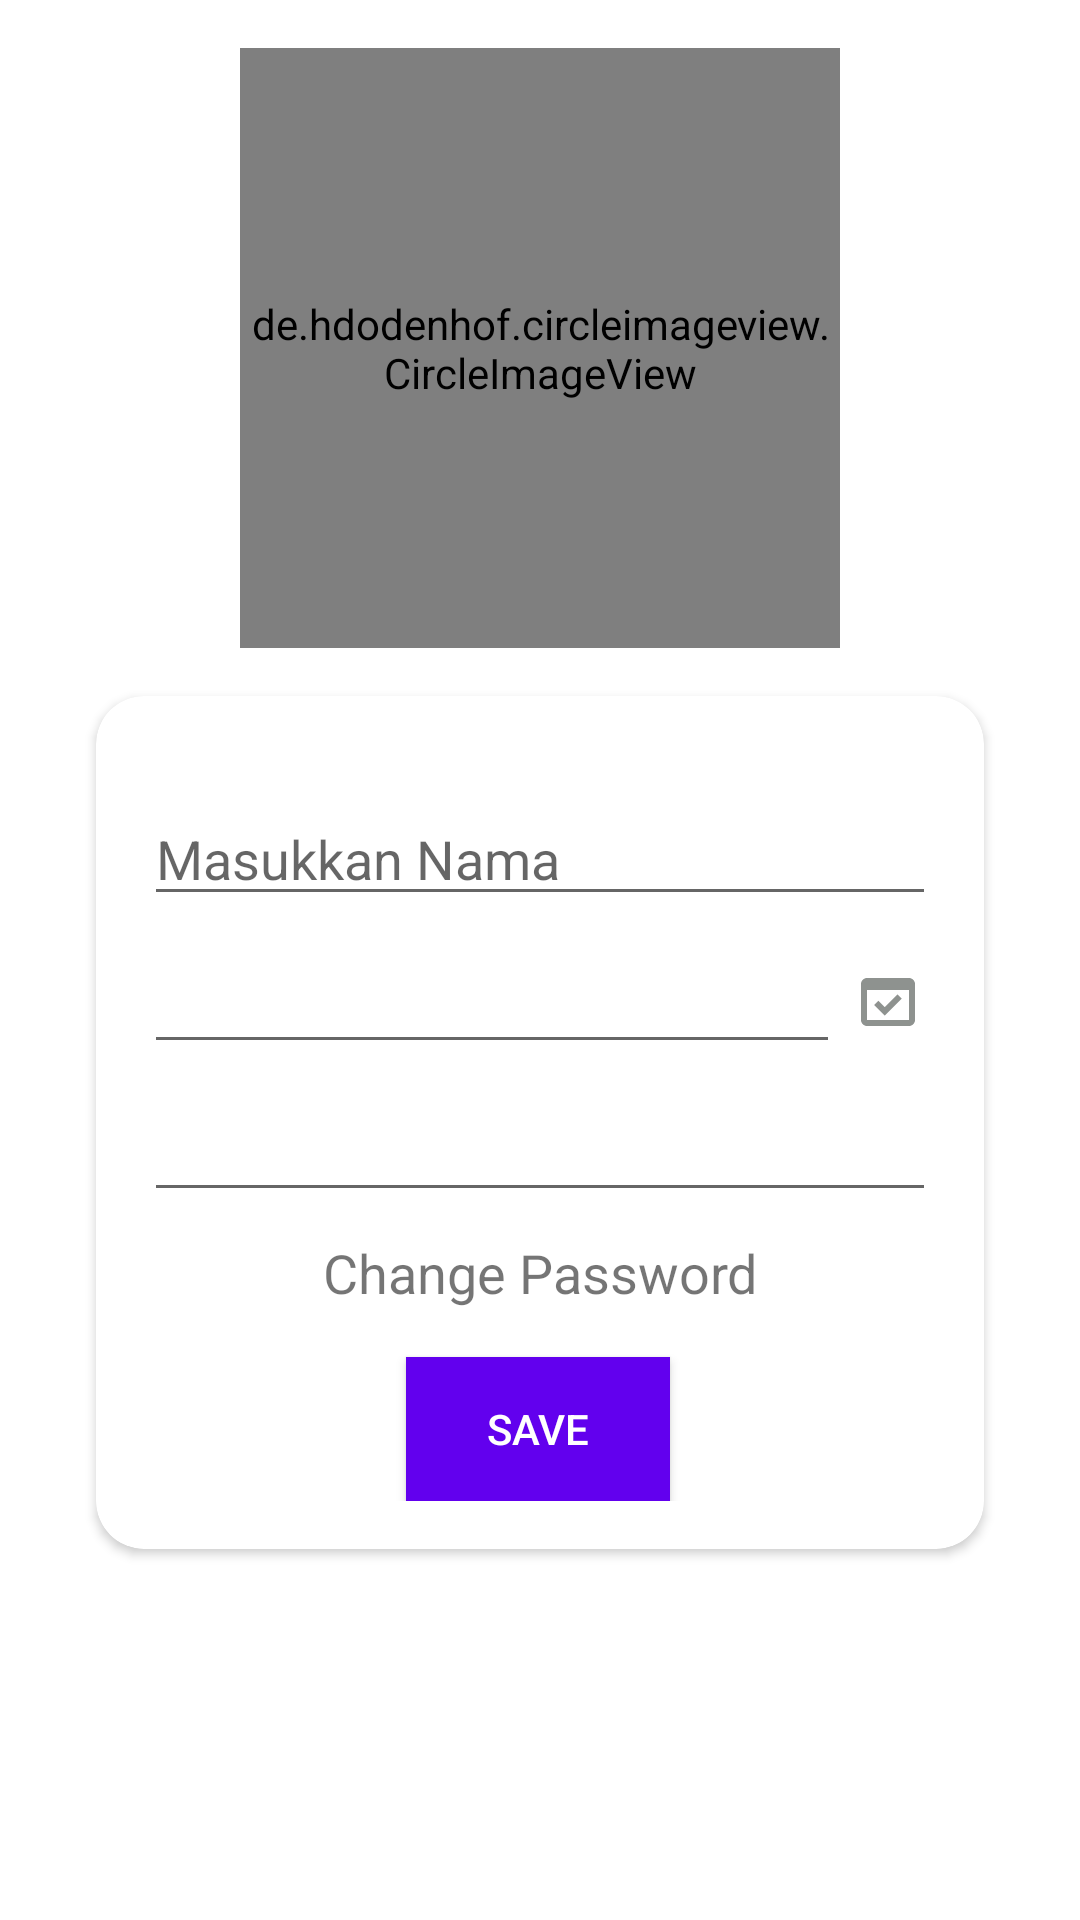

Where to tap for icons on this 1080×1920 app screen, as point (x, y):
verifikasi: point (888, 1002)
